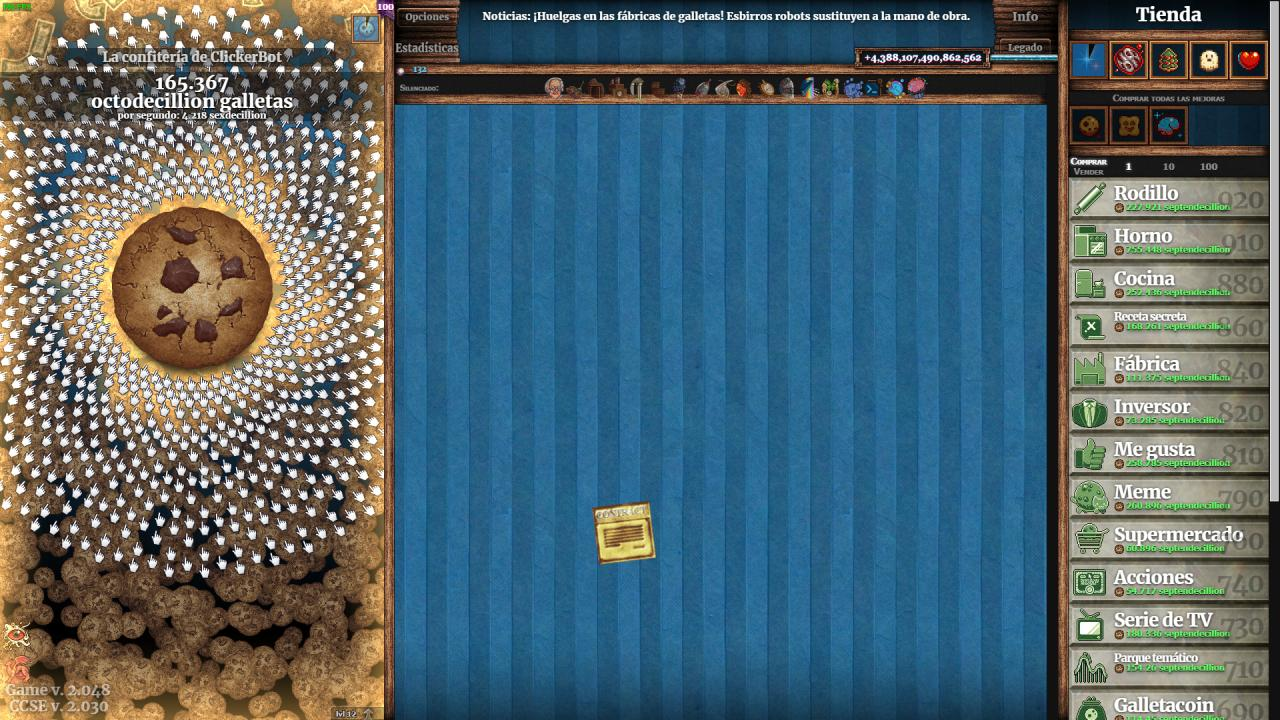GoldenCartridge: (591, 499, 659, 567)
